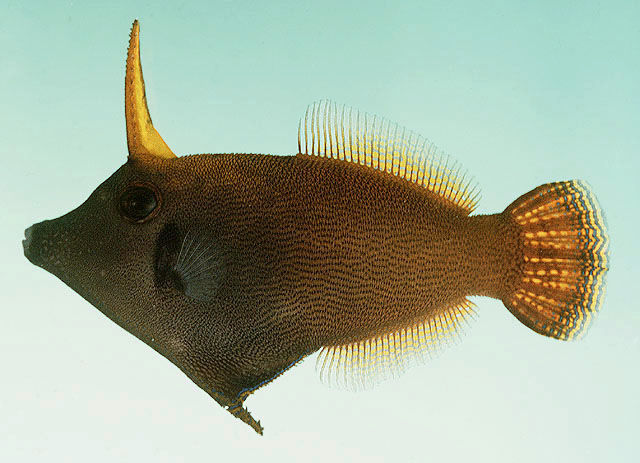fish: (21, 18, 611, 435)
